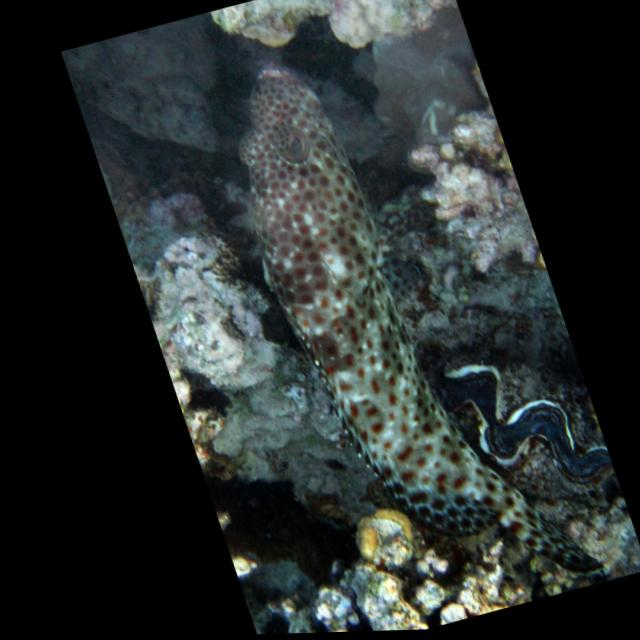Groupers: (194, 22, 606, 634)
